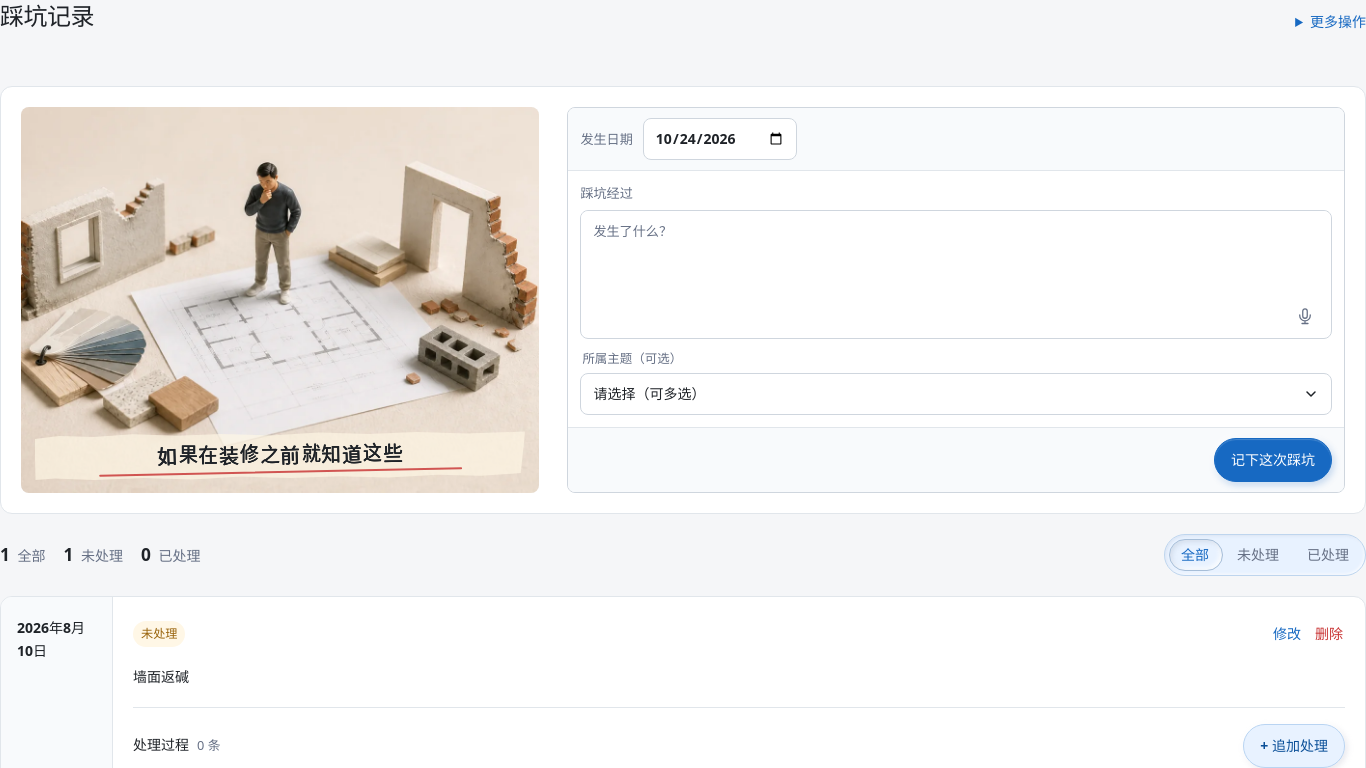
Test: PitfallsView › 追加处理后丢弃此前分析的迟到结果并提示重新分析
Expected: the text "墙面返碱" is shown, [133,667,189,686]
Click the heading "更多操作": (1338, 22) [1310,12,1365,31]
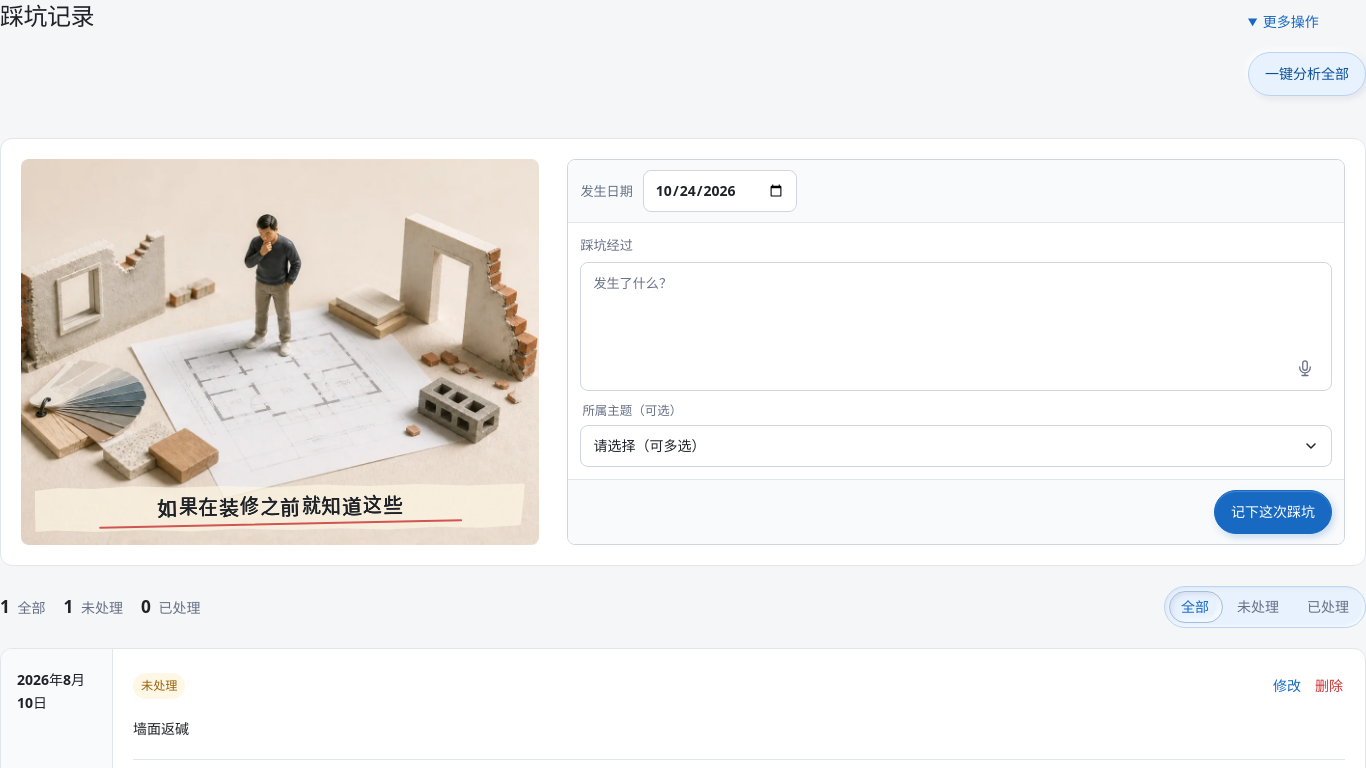
Click the button "一键分析全部": (1307, 74) [1248,52,1365,96]
(page scrolled)
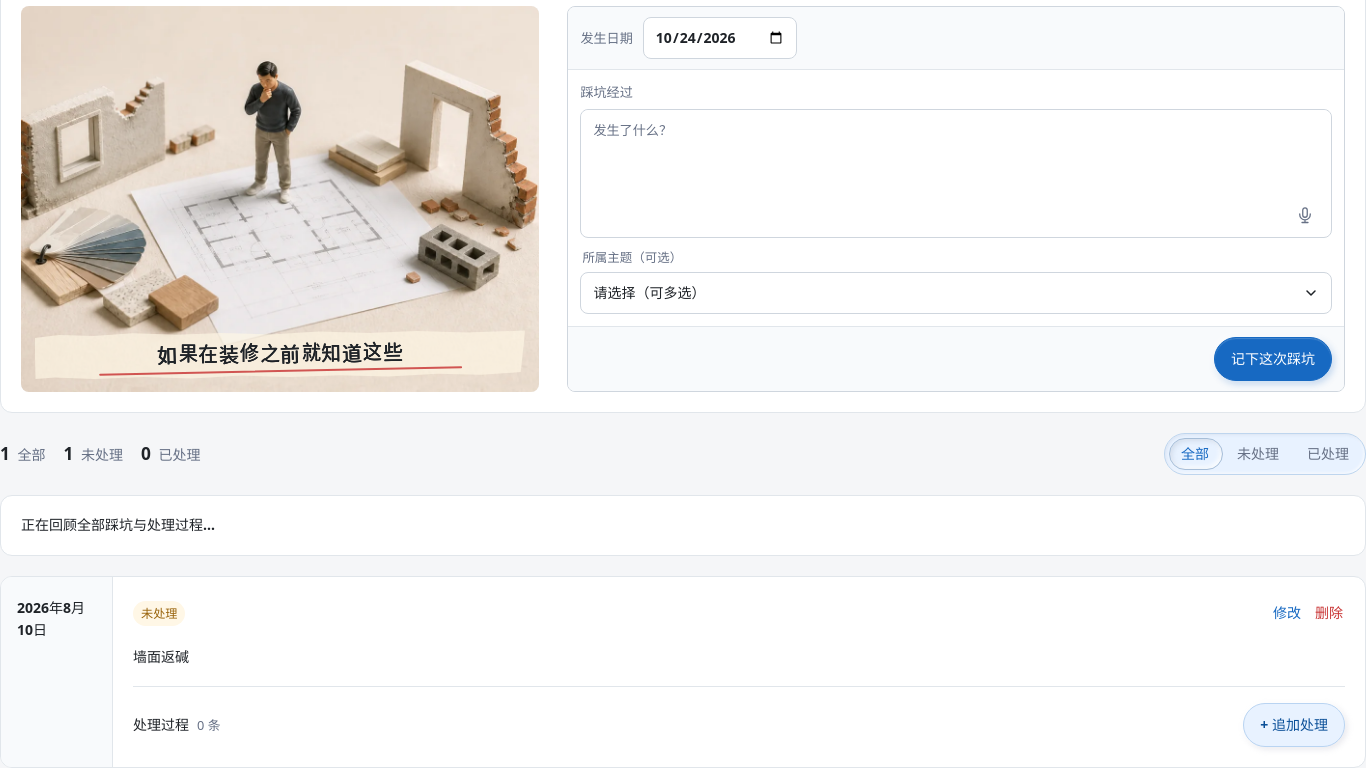
Click the button "+ 追加处理": (1294, 725) [1243,703,1345,747]
(page scrolled)
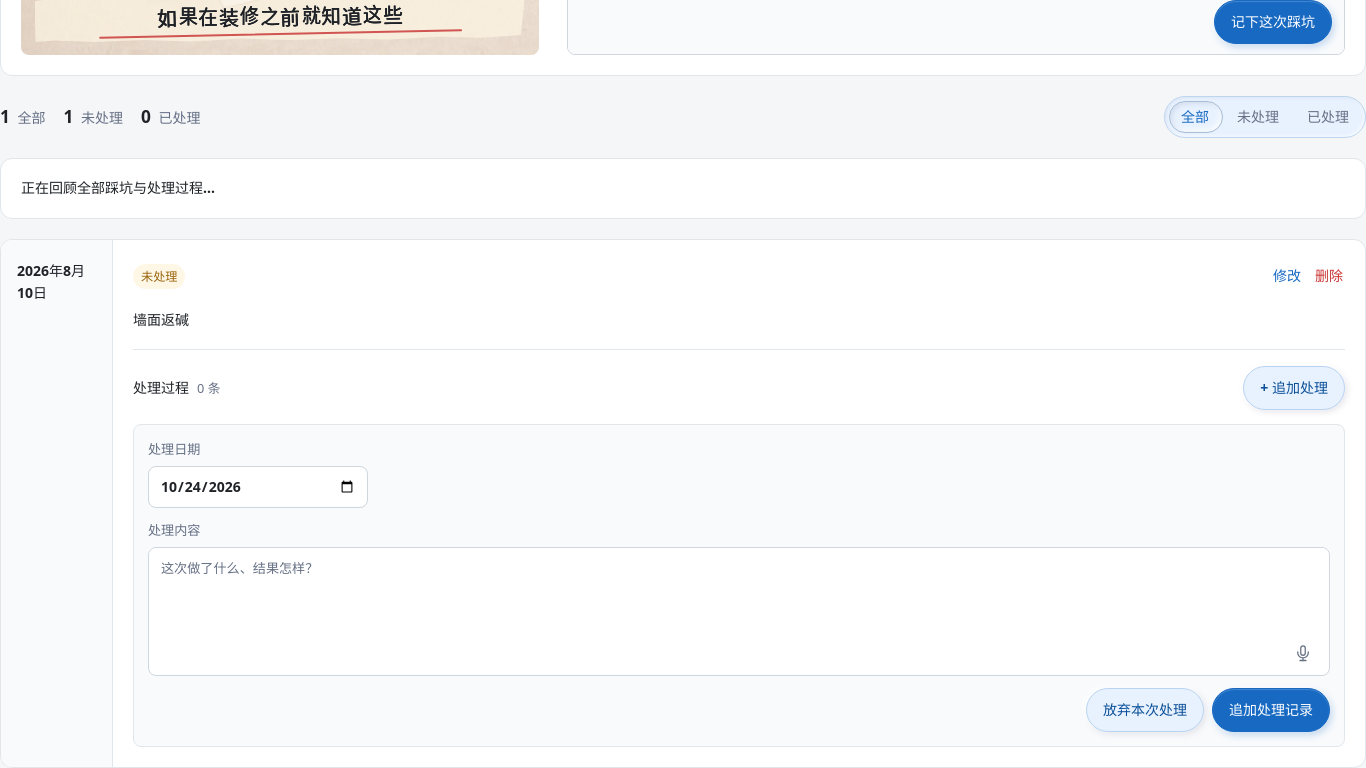
In the text box labelled "处理内容": (739, 589) [149,548,1329,631], type "新的处理内容"
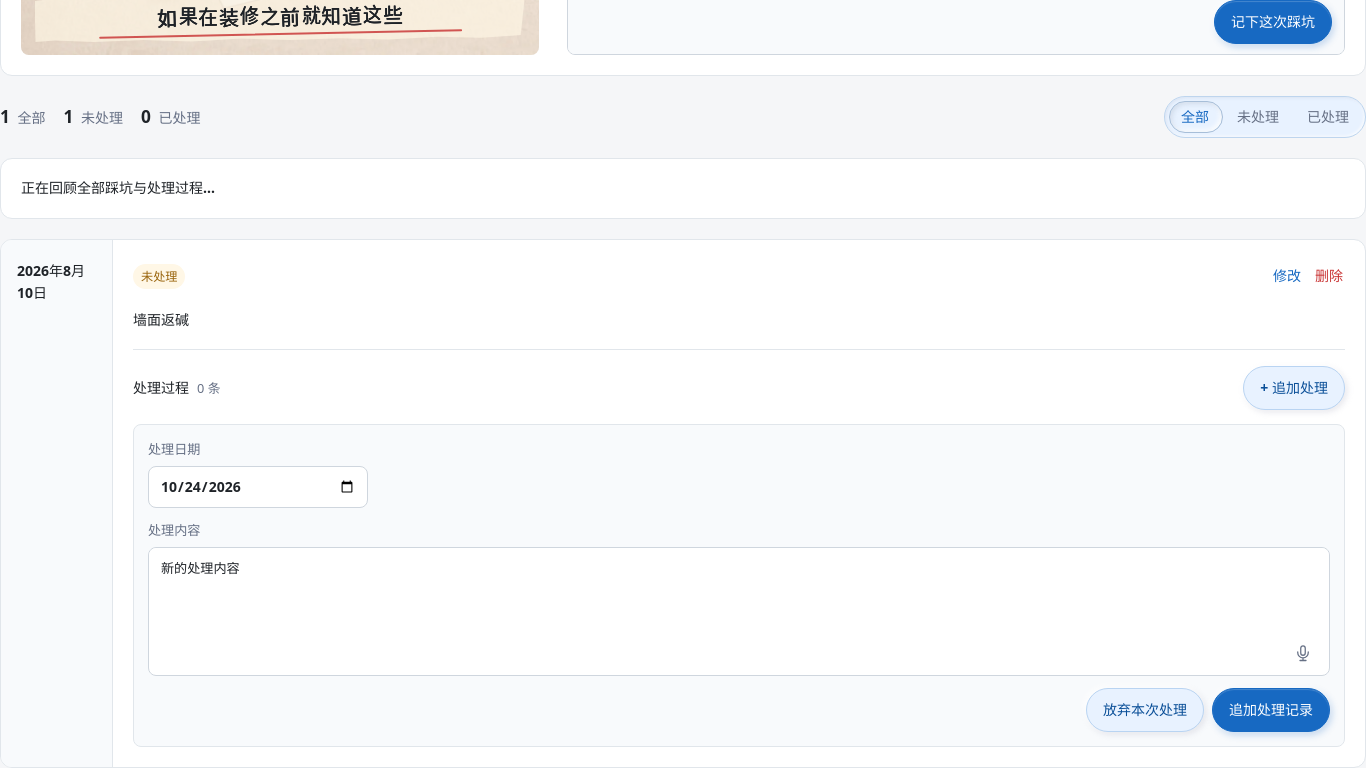
Click the button "追加处理记录": (1271, 710) [1212,688,1330,732]
(page scrolled)
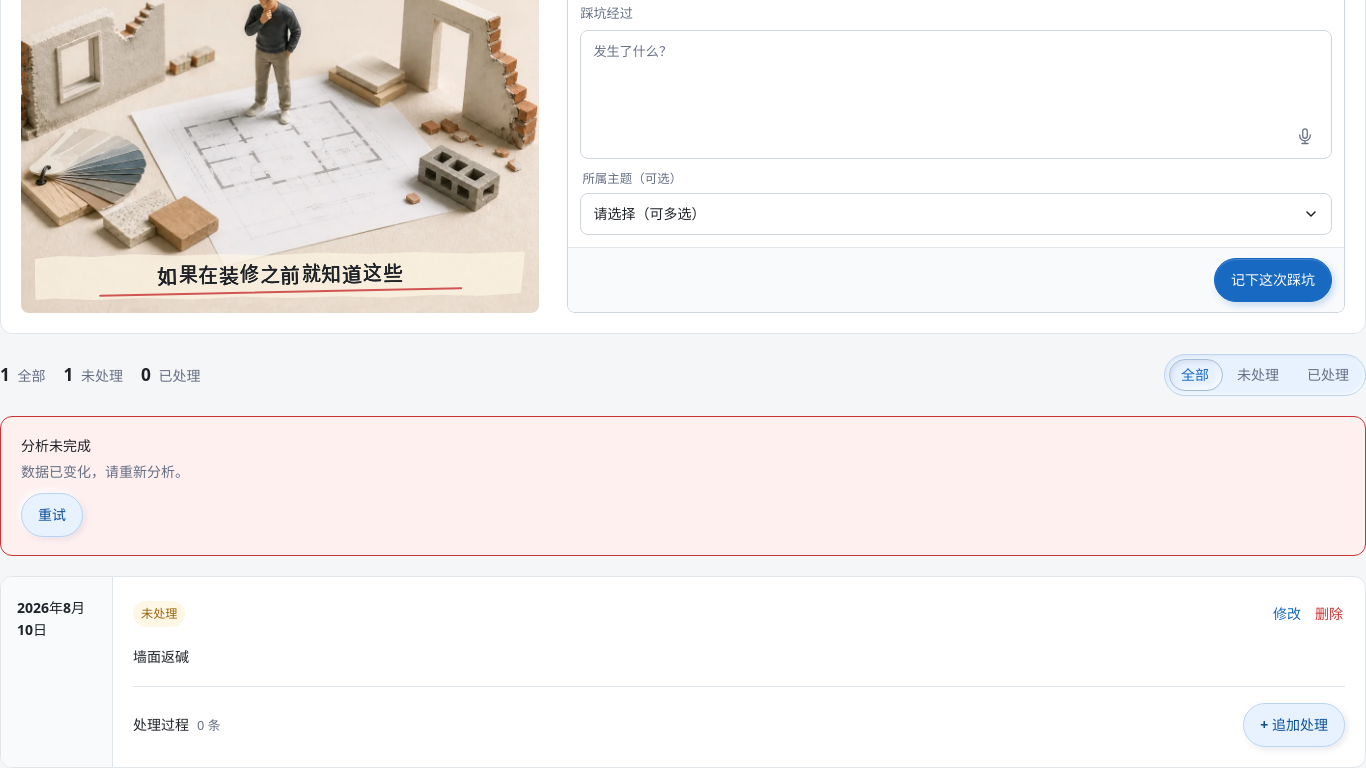
Now the text "数据已变化，请重新分析。" is shown, box [21,462,189,480]
